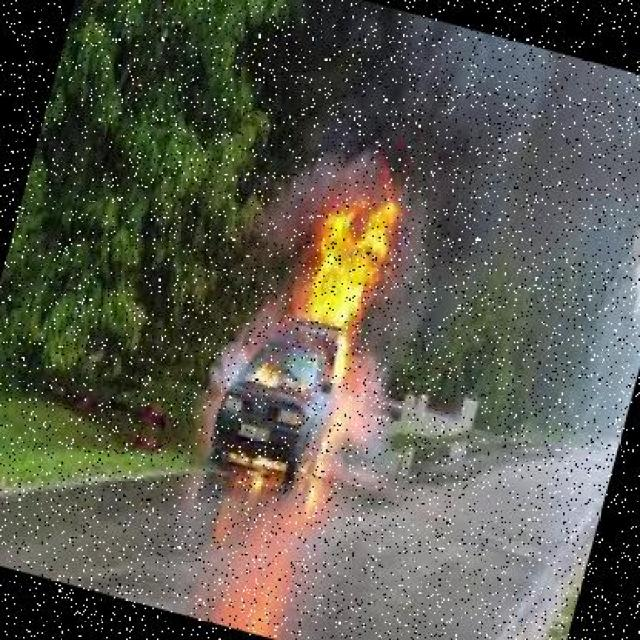fire: (257, 172, 412, 334), (283, 325, 389, 512), (208, 431, 294, 495), (238, 345, 291, 400)
